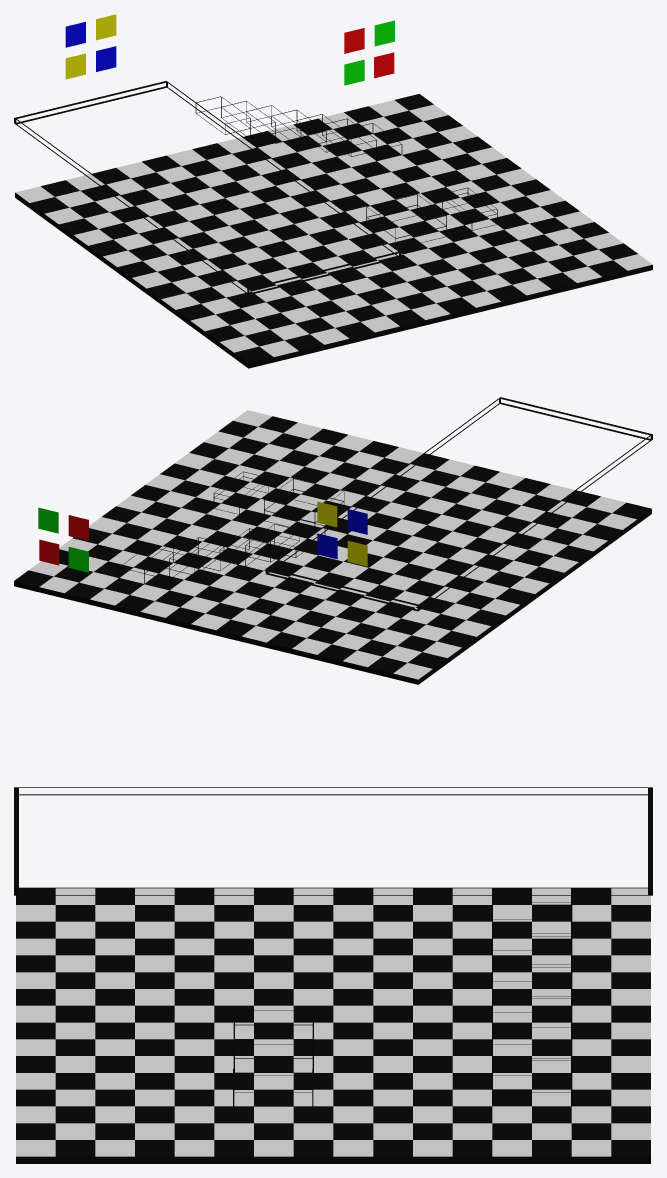
File: oyr_stage.gltf
3 views of the same model, one above another, from view 1: azimuth 30°, elevation 25°; view 2: azimuth 150°, elevation 25°; view 3: azimuth 270°, elevation 25° (orthographic). The views are drawn at different scales.
Visible parts, largest first — view 1: Cube.009, Cube.001; view 2: Cube.009, Cube.001, Plane.001, Plane.002, Plane.004, Plane.006, Plane.005, Plane.007, Plane, Plane.003; view 3: Cube.009, Cube.001.
Part boxes in pixels (x1,y1,x2,y2): Cube.009: (15, 94, 652, 368); Cube.001: (14, 81, 401, 294); Cube.009: (14, 410, 651, 684); Cube.001: (265, 397, 652, 611); Plane.001: (38, 507, 58, 533); Plane.002: (39, 539, 59, 565); Plane.004: (347, 509, 367, 534); Plane.006: (317, 533, 337, 559); Plane.005: (317, 501, 337, 527); Plane.007: (347, 541, 367, 566); Plane: (68, 515, 88, 540); Plane.003: (68, 547, 88, 572); Cube.009: (16, 888, 650, 1163); Cube.001: (14, 787, 652, 895).
Bounding box in the file's own units: 16.02 × 6 × 16.09.
